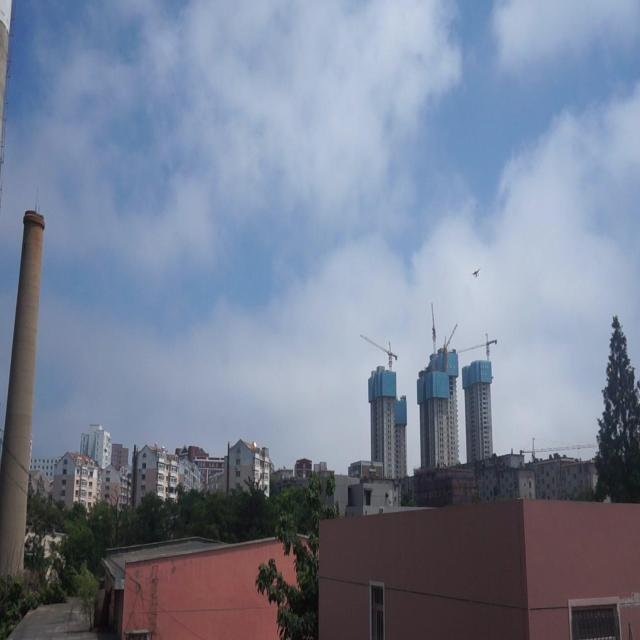drone: (472, 266, 479, 278)
